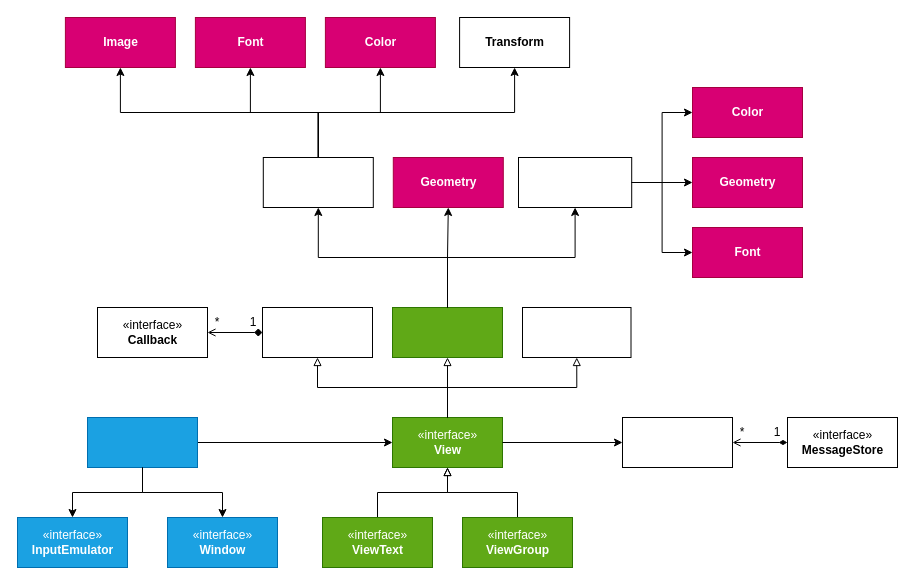
The diagram is 915 pixels wide and 585 high, and some of its shapes have lost their labels. Each missing label, with the centre of its shape:
"Style" belongs at (575,182).
"«interface» Callable" belongs at (317,332).
"«interface» Collidable" belongs at (576,332).
"«interface» Context" belongs at (142,442).
"«interface» Drawable" belongs at (447,332).
"«interface» Graphics" belongs at (317,182).
"«interface» Message" belongs at (677,442).
